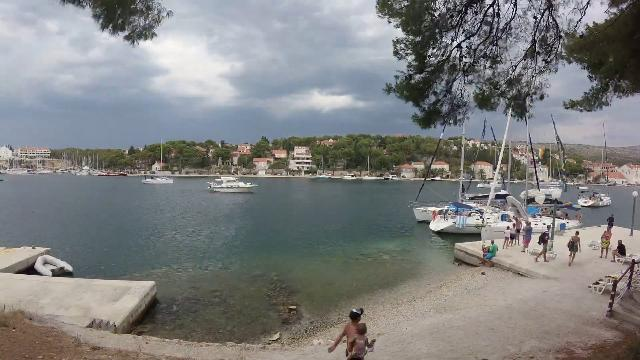Sailboat: (138, 173, 180, 187)
ferry: (203, 172, 261, 197)
